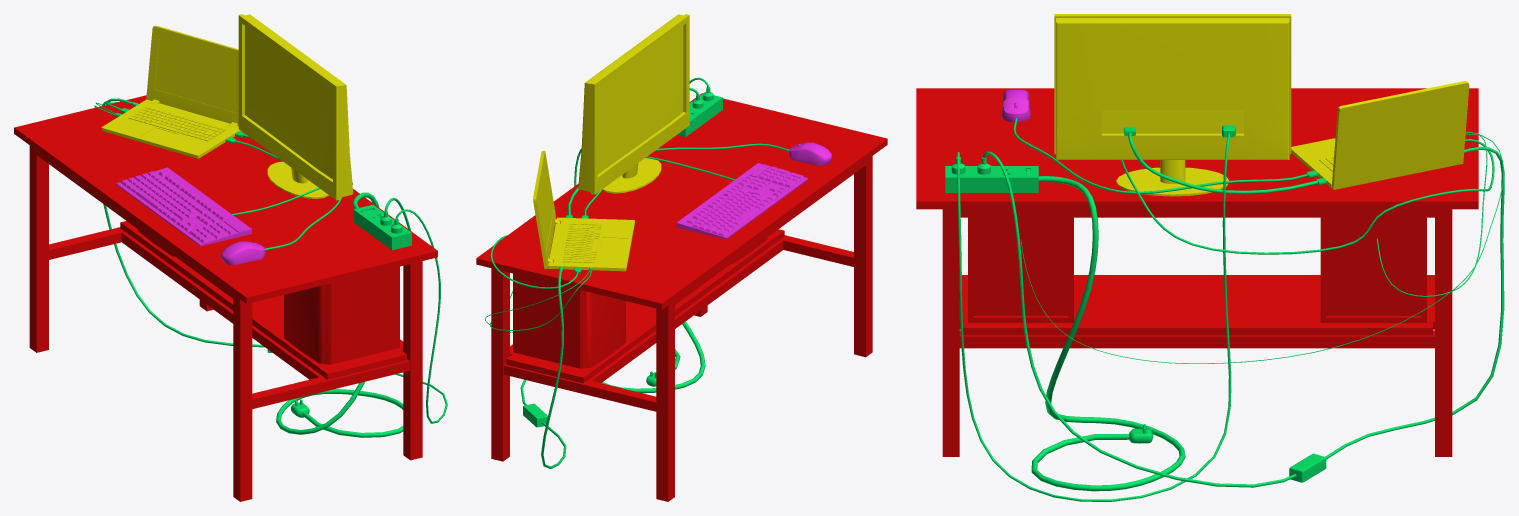
File: Escritorio.fbx
The picture shows the model from 3 angles, left to right: view 1: azimuth 30°, elevation 25°; view 2: azimuth 150°, elevation 25°; view 3: azimuth 270°, elevation 25°; orthographic projection. The views are drawn at different scales.
Parts seen in each view (by area): view 1: p_tablaMadera, p_Monitor, p_Cuerpo, pCube286, p_Parlante, polySurface2, p_Estante, pCylinder13, p_Teclado, p_Enchufe, pCylinder1, pCylinder12 (+2 smaller); view 2: p_tablaMadera, p_Monitor, p_Cuerpo, p_Parlante, pCube286, polySurface2, p_Estante, p_Teclado, pCylinder1, pCylinder12, p_Enchufe, pCube326 (+2 smaller); view 3: p_Monitor, p_tablaMadera, p_Parlante, p_Estante, p_Cuerpo, pCube286, polySurface2, pCylinder13, pCylinder12, pCylinder8, pCylinder1, p_Enchufe (+6 smaller).
Boxes of the visible parts, x1,y1,x2,y2 form: p_tablaMadera: [14, 95, 437, 303]; p_Monitor: [238, 14, 353, 200]; p_Cuerpo: [29, 145, 422, 501]; pCube286: [101, 25, 241, 158]; p_Parlante: [138, 229, 399, 364]; polySurface2: [49, 227, 409, 408]; p_Estante: [120, 221, 406, 379]; pCylinder13: [276, 192, 403, 437]; p_Teclado: [116, 167, 251, 246]; p_Enchufe: [353, 204, 411, 250]; pCylinder1: [267, 161, 329, 198]; pCylinder12: [102, 98, 410, 347]; p_tablaMadera: [476, 93, 887, 309]; p_Monitor: [578, 14, 689, 194]; p_Cuerpo: [491, 156, 872, 501]; p_Parlante: [513, 237, 767, 368]; pCube286: [533, 151, 634, 271]; polySurface2: [503, 235, 853, 411]; p_Estante: [506, 229, 784, 383]; p_Teclado: [676, 163, 808, 239]; pCylinder1: [602, 158, 661, 193]; pCylinder12: [520, 87, 698, 468]; p_Enchufe: [677, 93, 722, 136]; pCube326: [789, 142, 832, 165]; p_Monitor: [1054, 14, 1291, 159]; p_tablaMadera: [916, 88, 1478, 209]; p_Parlante: [968, 217, 1426, 322]; p_Estante: [959, 275, 1434, 335]; p_Cuerpo: [942, 209, 1452, 456]; pCube286: [1291, 81, 1469, 189]; polySurface2: [959, 330, 1434, 348]; pCylinder13: [1031, 176, 1185, 491]; pCylinder12: [982, 146, 1504, 487]; pCylinder8: [957, 133, 1231, 501]; pCylinder1: [1116, 160, 1228, 196]; p_Enchufe: [945, 166, 1038, 192].
Size of the model in its own units: 87.45 by 111 by 139.
